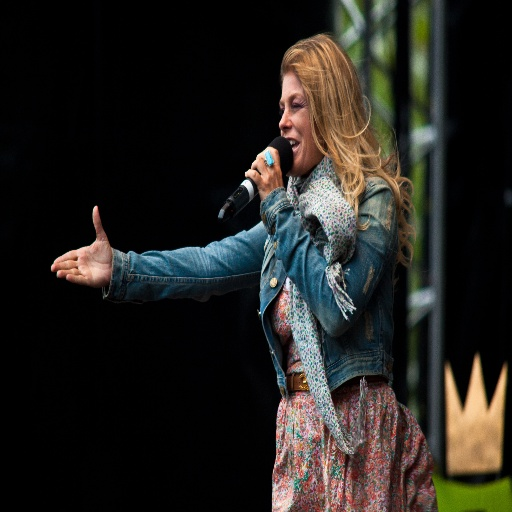hand: (57, 210, 129, 299), (244, 145, 282, 200)
